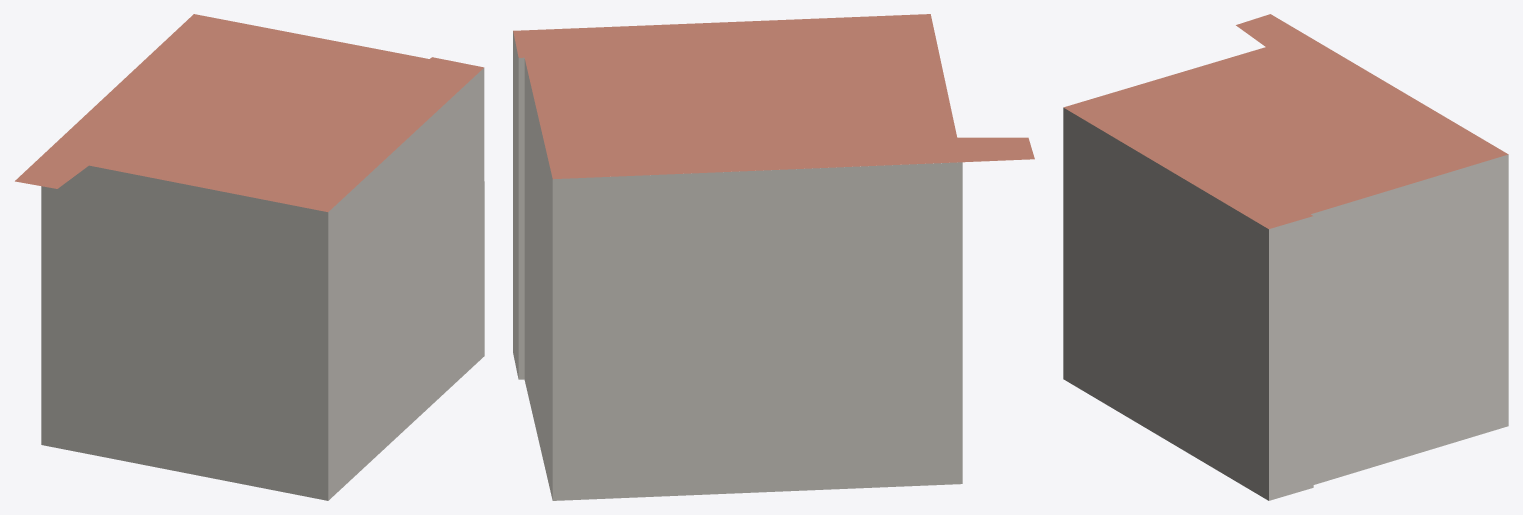
3 renders of one model, left to right at view 1: azimuth 30°, elevation 25°; view 2: azimuth 150°, elevation 25°; view 3: azimuth 270°, elevation 25°, orthographic. The views are drawn at different scales.
Visible parts, largest first — view 1: swisstopo:swissbuildings3d:cdabeefd-1b95-456a-82df-f8542d36e; view 2: swisstopo:swissbuildings3d:cdabeefd-1b95-456a-82df-f8542d36e; view 3: swisstopo:swissbuildings3d:cdabeefd-1b95-456a-82df-f8542d36e.
Part boxes in pixels (x1,y1,x2,y2): swisstopo:swissbuildings3d:cdabeefd-1b95-456a-82df-f8542d36e: (15,14,484,500); swisstopo:swissbuildings3d:cdabeefd-1b95-456a-82df-f8542d36e: (513,14,1034,500); swisstopo:swissbuildings3d:cdabeefd-1b95-456a-82df-f8542d36e: (1063,14,1508,500).
Size of the model in its own units: 17.23 by 10.13 by 15.05.
